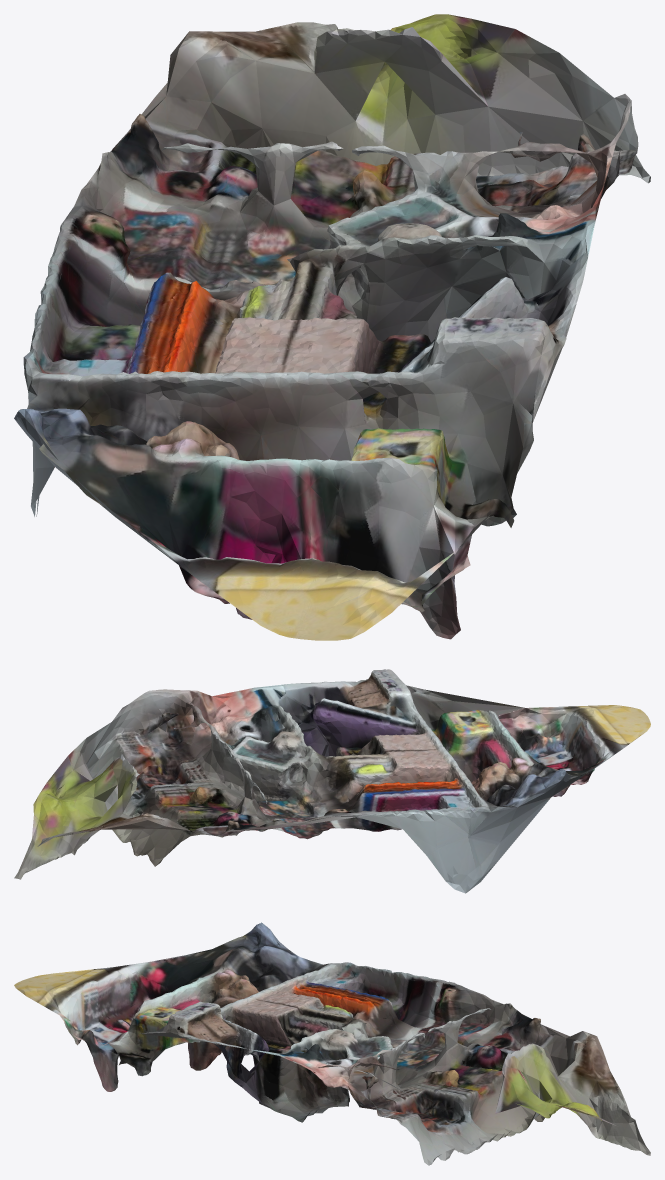
3 renders of one model, top to bottom at view 1: azimuth 30°, elevation 25°; view 2: azimuth 150°, elevation 25°; view 3: azimuth 270°, elevation 25°, orthographic. The views are drawn at different scales.
Size of the model in its own units: 2.25 by 0.7012 by 3.01.
1 material, 1 textured.
